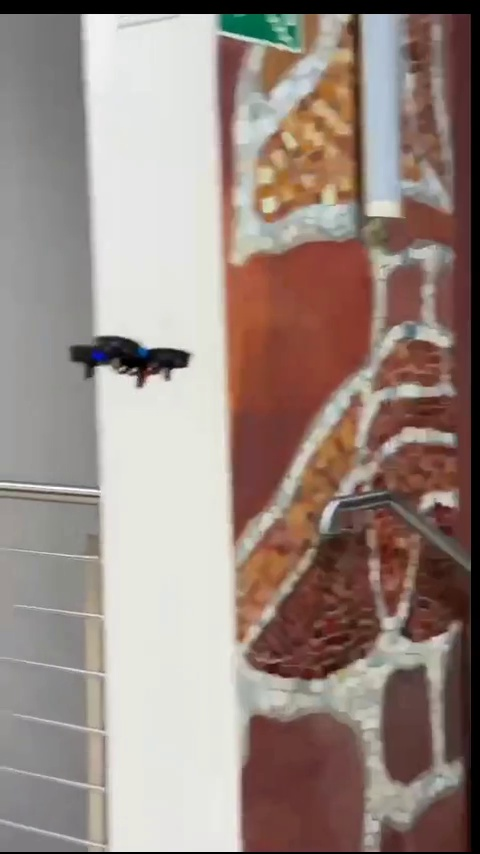drone: (71, 333, 200, 384)
